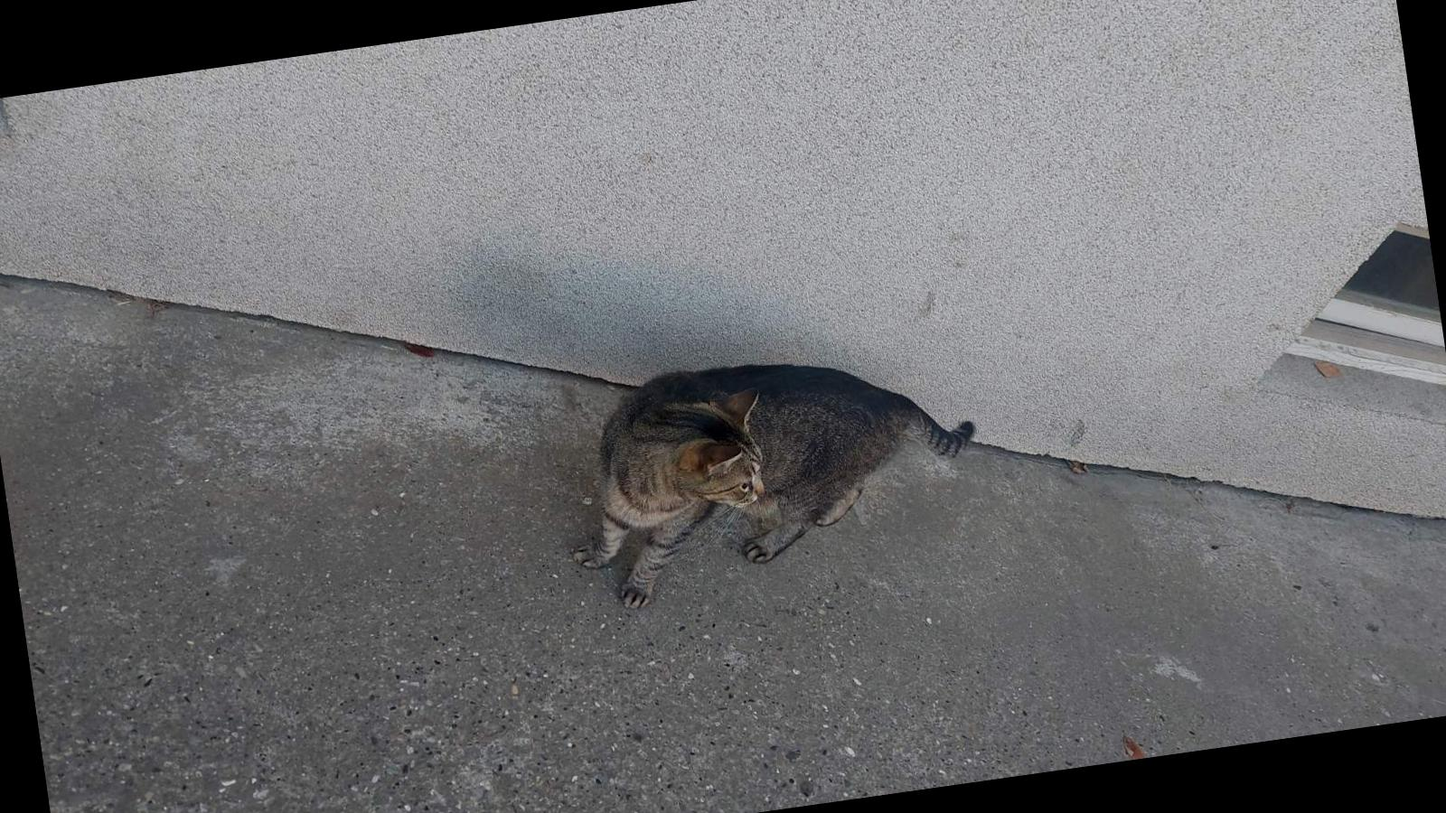macka: (547, 330, 994, 618)
